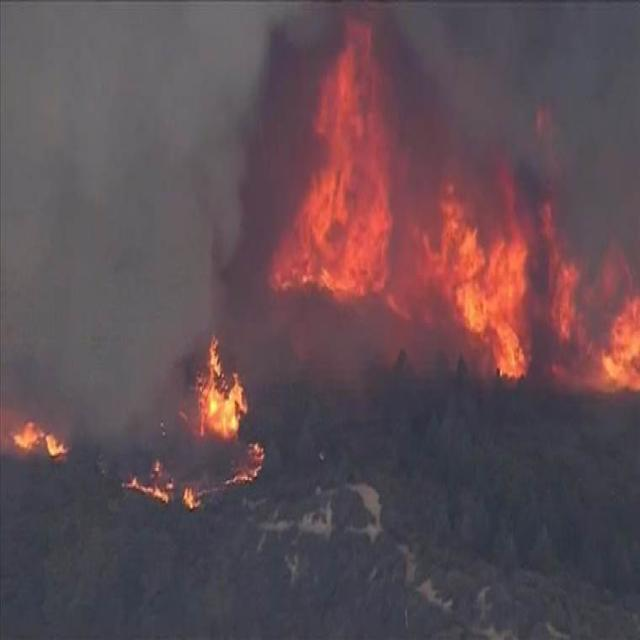Fire: (262, 183, 640, 387), (4, 344, 268, 509)
Smoke: (215, 8, 640, 336)
